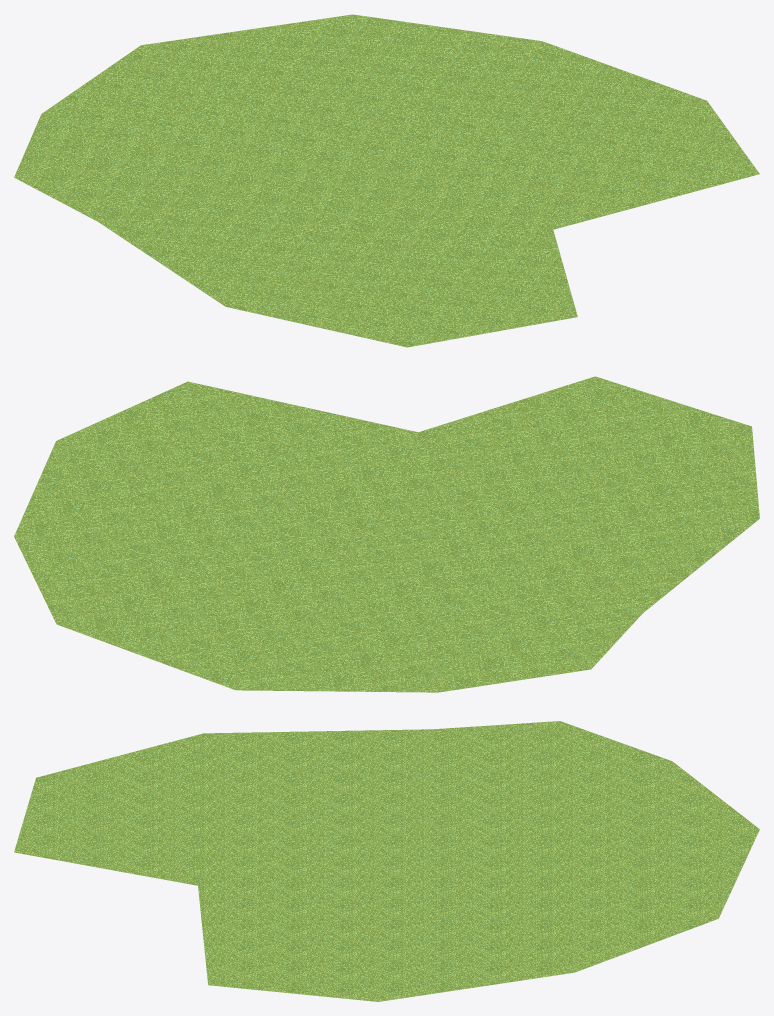
Rendered from kd_stage_1364a3_7_10_bounded.glb.
3 renders of one model, top to bottom at view 1: azimuth 30°, elevation 25°; view 2: azimuth 150°, elevation 25°; view 3: azimuth 270°, elevation 25°, orthographic. The views are drawn at different scales.
Parts seen in each view (by area): view 1: kd_stage_1364a3_7_10_bounded; view 2: kd_stage_1364a3_7_10_bounded; view 3: kd_stage_1364a3_7_10_bounded.
Boxes of the visible parts, x1,y1,x2,y2 form: kd_stage_1364a3_7_10_bounded: (14,14,759,347); kd_stage_1364a3_7_10_bounded: (14,376,759,692); kd_stage_1364a3_7_10_bounded: (14,721,759,1001).
Bounding box in the file's own units: 32.02 × 4.77e-06 × 35.92.
Materials: 1 (1 with a texture image).
